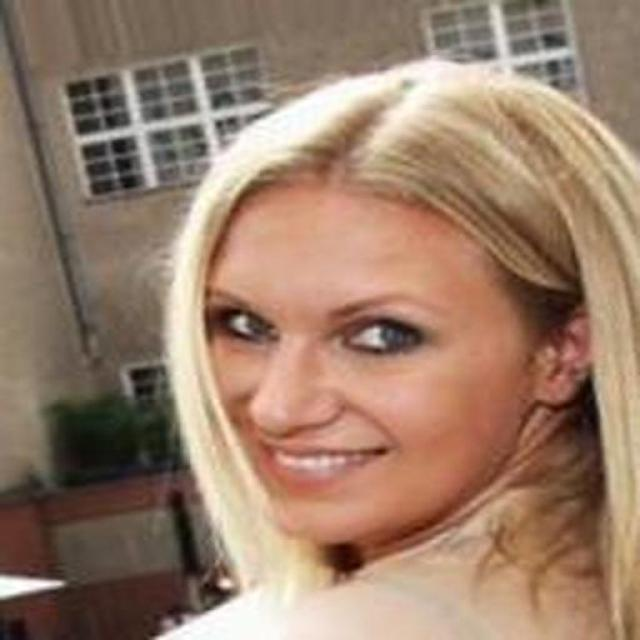bareface: (190, 111, 600, 541)
